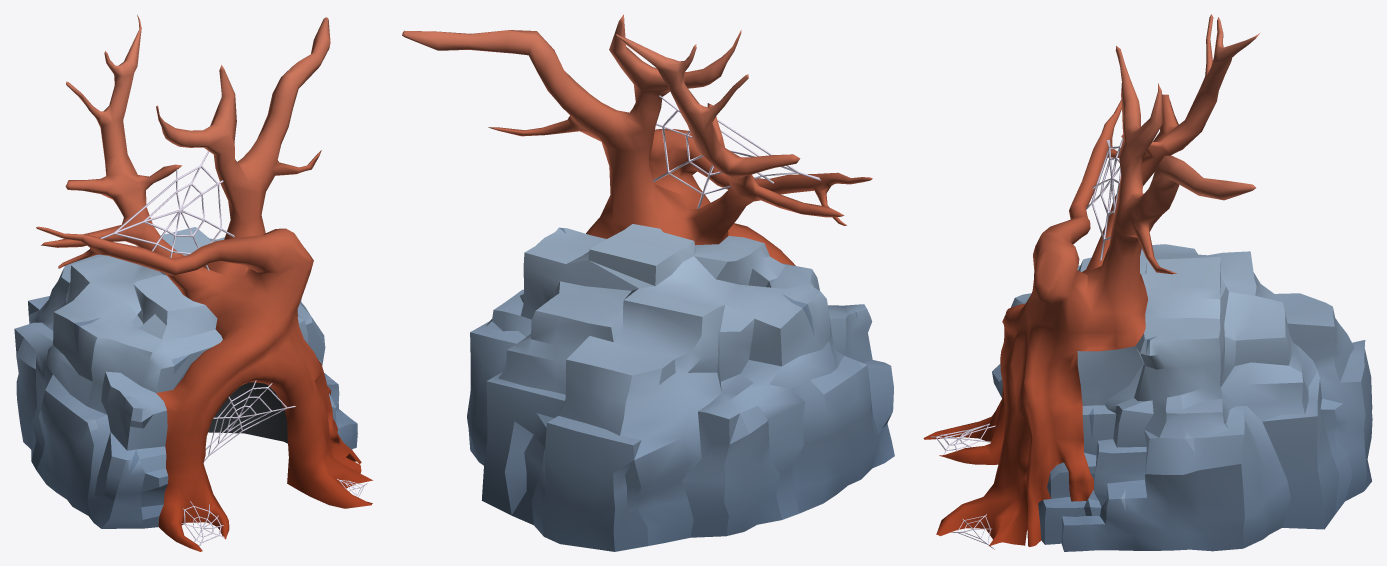
Rendered from CaveTree.fbx.
3 renders of one model, left to right at view 1: azimuth 30°, elevation 25°; view 2: azimuth 150°, elevation 25°; view 3: azimuth 270°, elevation 25°, orthographic. The views are drawn at different scales.
Visible parts, largest first — view 1: Cave_Plane.003; view 2: Cave_Plane.003; view 3: Cave_Plane.003.
Boxes of the visible parts, x1=… form: Cave_Plane.003: x1=14, y1=14, x2=372, y2=551; Cave_Plane.003: x1=402, y1=14, x2=894, y2=551; Cave_Plane.003: x1=923, y1=14, x2=1372, y2=551.
Size of the model in its own units: 755 by 846 by 754.
